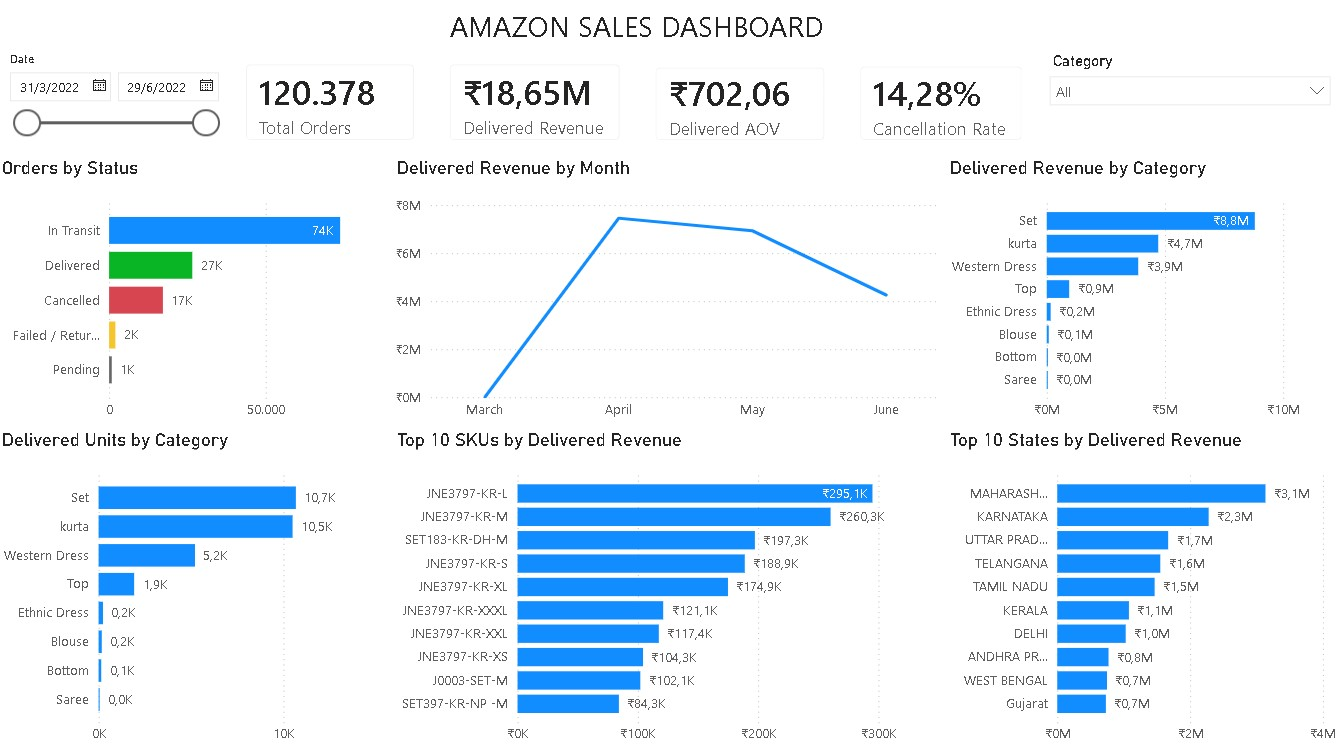

What the dashboard file says about the page in this screenshot:
{"tool":"powerbi","page":{"name":"Page 1","canvas":[1280,720],"ordinal":0},"visuals":[{"type":"cardVisual","fields":{"Data":["public amazon_sales_clean.Total Orders"]},"box":[220,45.7,194.3,106.7],"z":0},{"type":"cardVisual","fields":{"Data":["public amazon_sales_clean.Cancellation Rate"]},"box":[804.9,47.6,187.6,104.8],"z":1000},{"type":"cardVisual","fields":{"Data":["public amazon_sales_clean.Delivered Revenue"]},"box":[414.3,45.7,195.3,106.7],"z":2000},{"type":"cardVisual","fields":{"Data":["public amazon_sales_clean.Delivered AOV"]},"box":[609.6,48.6,195.3,103.8],"z":3000},{"type":"clusteredBarChart","title":"Orders by Status","fields":{"Category":["public amazon_sales_clean.Status Group"],"Y":["public amazon_sales_clean.Total Orders"]},"box":[0,152.4,376.2,258.1],"z":4000},{"type":"lineChart","fields":{"Category":["public amazon_sales_clean.Date.Variation.Date Hierarchy.Year","public amazon_sales_clean.Date.Variation.Date Hierarchy.Quarter","public amazon_sales_clean.Date.Variation.Date Hierarchy.Month","public amazon_sales_clean.Date.Variation.Date Hierarchy.Day"],"Y":["public amazon_sales_clean.Delivered Revenue"]},"box":[376.2,152.4,526.7,258.1],"z":5000},{"type":"slicer","fields":{"Values":["public amazon_sales_clean.Date"]},"box":[0,45.7,220,106.7],"z":6000},{"type":"clusteredBarChart","fields":{"Category":["public amazon_sales_clean.Category"],"Y":["public amazon_sales_clean.Delivered Revenue"]},"box":[903,152.4,355.3,258.1],"z":7000},{"type":"clusteredBarChart","fields":{"Category":["public amazon_sales_clean.Category"],"Y":["public amazon_sales_clean.Delivered Units"]},"box":[0,410.5,376.2,309.6],"z":8000},{"type":"clusteredBarChart","title":"Top 10 States by Delivered Revenue","fields":{"Category":["public amazon_sales_clean.ship-state"],"Y":["public amazon_sales_clean.Delivered Revenue"]},"box":[903,410.5,377.2,309.6],"z":9000},{"type":"slicer","fields":{"Values":["public amazon_sales_clean.Category"]},"box":[992.5,45.7,287.7,106.7],"z":10000},{"type":"clusteredBarChart","title":"Top 10 SKUs by Delivered Revenue","fields":{"Category":["public amazon_sales_clean.SKU"],"Y":["public amazon_sales_clean.Delivered Revenue"]},"box":[376.2,410.5,526.7,309.6],"z":11000},{"type":"textbox","box":[302.9,1.9,613.4,46.7],"z":13000}]}

Visuals, with their boxes in screenshot pixels (x1, y1, x2, y2), scaled from the page's 1280x720 canvas onto the 1338x751 screenshot:
cardVisual - public amazon_sales_clean.Total Orders: box(230, 48, 433, 159)
cardVisual - public amazon_sales_clean.Cancellation Rate: box(841, 50, 1037, 159)
cardVisual - public amazon_sales_clean.Delivered Revenue: box(433, 48, 637, 159)
cardVisual - public amazon_sales_clean.Delivered AOV: box(637, 51, 841, 159)
"Orders by Status" clusteredBarChart: box(0, 159, 393, 428)
lineChart - public amazon_sales_clean.Date.Variation.Date Hierarchy.Year x public amazon_sales_clean.Date.Variation.Date Hierarchy.Quarter: box(393, 159, 944, 428)
slicer - public amazon_sales_clean.Date: box(0, 48, 230, 159)
clusteredBarChart - public amazon_sales_clean.Category x public amazon_sales_clean.Delivered Revenue: box(944, 159, 1315, 428)
clusteredBarChart - public amazon_sales_clean.Category x public amazon_sales_clean.Delivered Units: box(0, 428, 393, 750)
"Top 10 States by Delivered Revenue" clusteredBarChart: box(944, 428, 1337, 750)
slicer - public amazon_sales_clean.Category: box(1037, 48, 1337, 159)
"Top 10 SKUs by Delivered Revenue" clusteredBarChart: box(393, 428, 944, 750)
textbox: box(317, 2, 958, 51)
